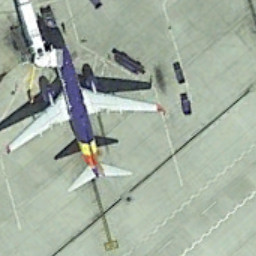Airplane: (3, 31, 173, 214)
